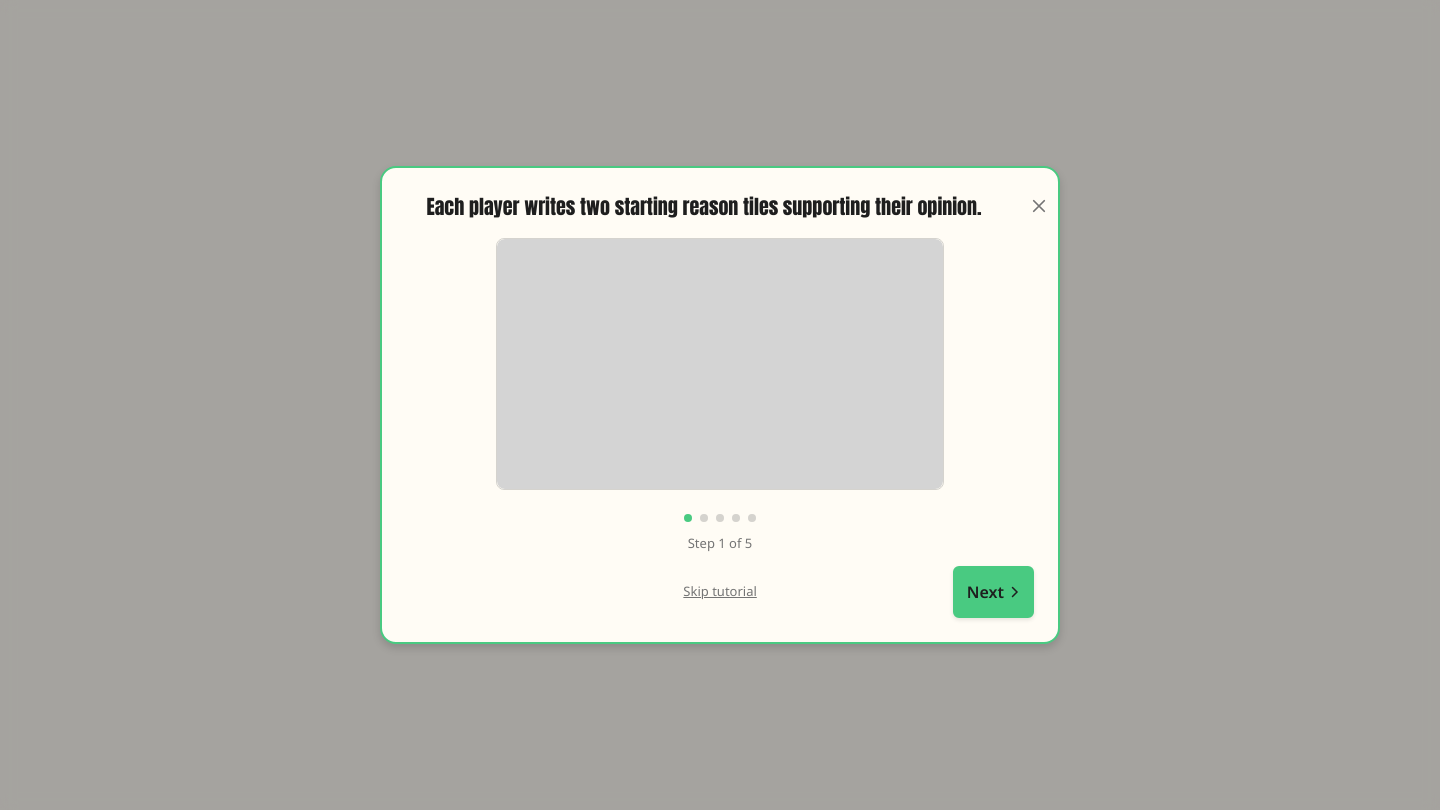
Test: OnboardingOverlay: navigation › jumps straight to a step from its dot
Click the button named "Go to step 5": (752, 518) [748,514,756,522]
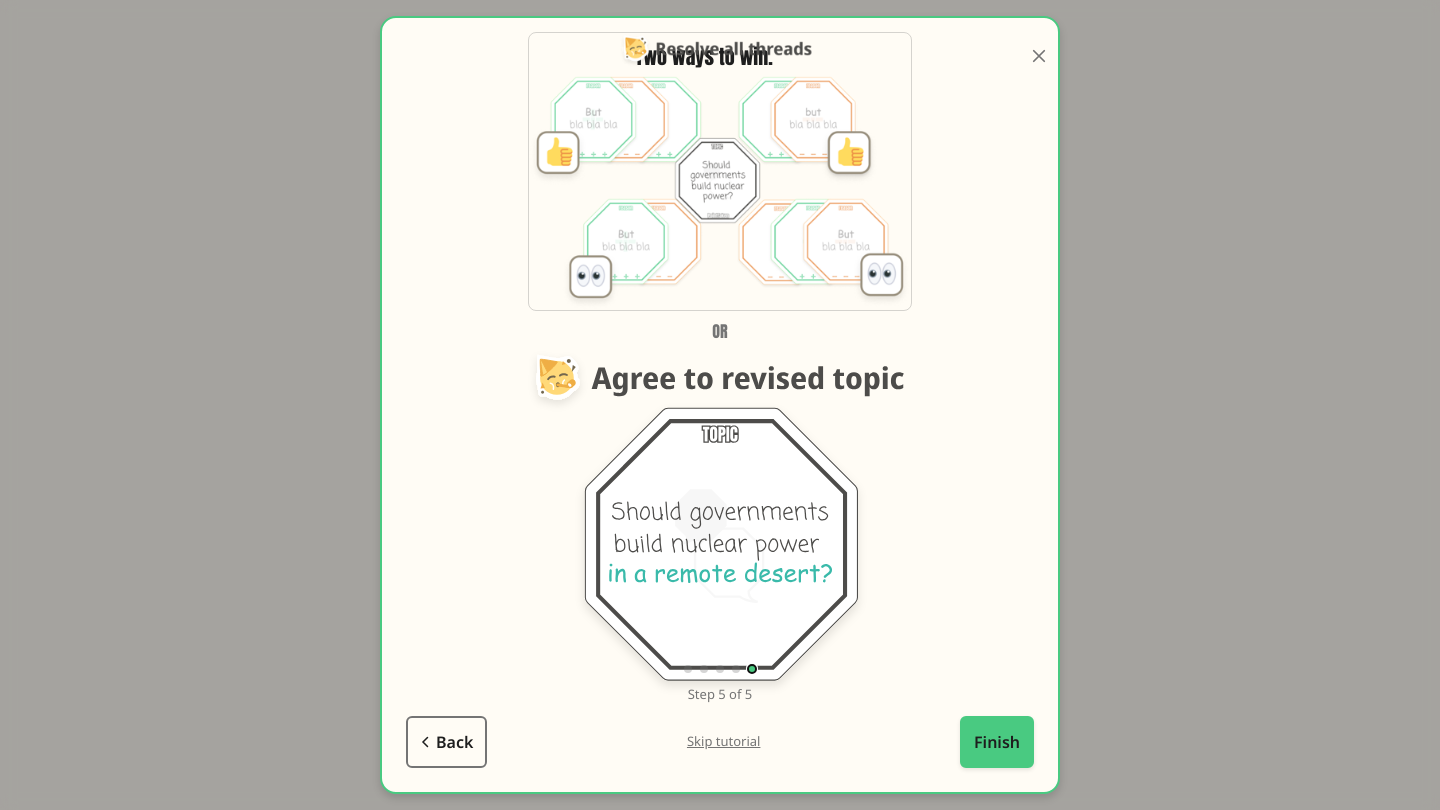
Expected: the text "Step 5 of 5" is shown, [688,684,752,704]
Expected: the heading "Two ways to win." is shown, [635,41,773,72]
